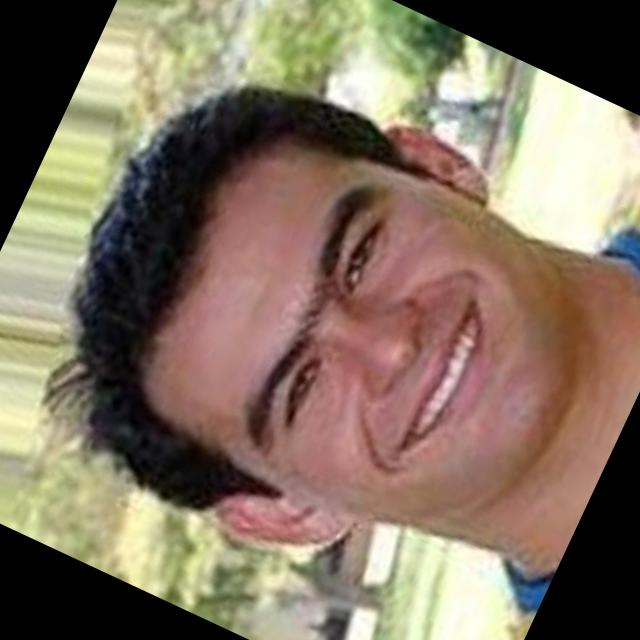bareface: (42, 37, 610, 629)
